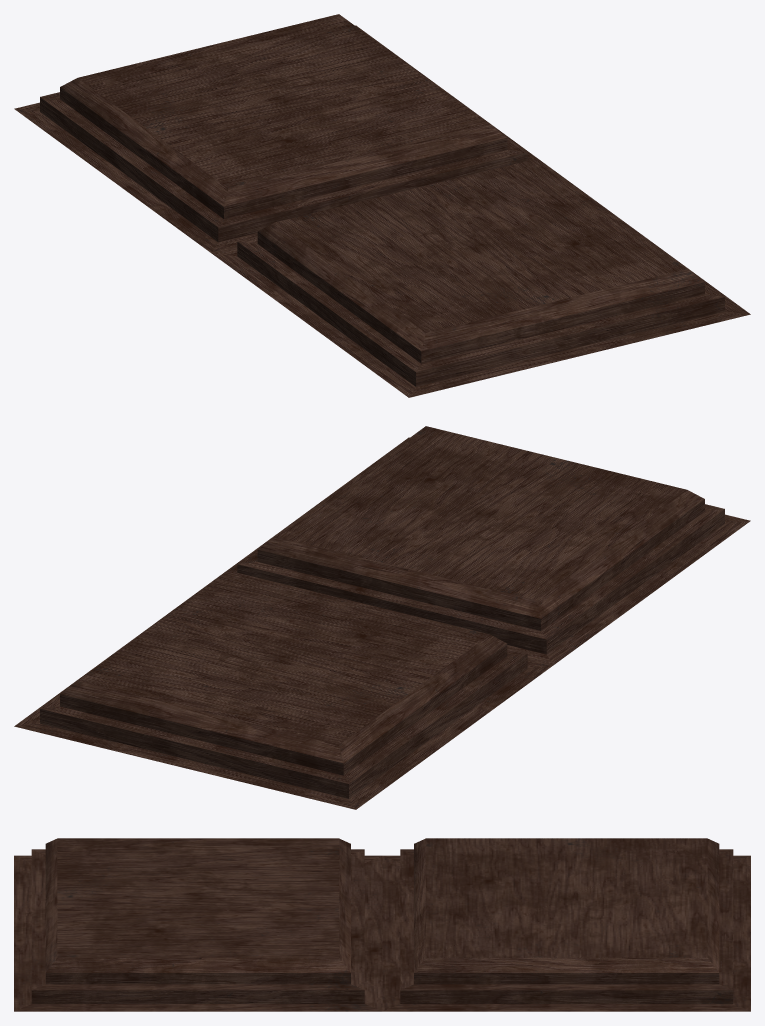
The model's file is SM_Ceiling_Half.fbx.
3 renders of one model, top to bottom at view 1: azimuth 30°, elevation 25°; view 2: azimuth 150°, elevation 25°; view 3: azimuth 270°, elevation 25°, orthographic. The views are drawn at different scales.
Parts seen in each view (by area): view 1: SM_Ceiling_Half; view 2: SM_Ceiling_Half; view 3: SM_Ceiling_Half.
Part boxes in pixels (<box>): SM_Ceiling_Half: <box>14,14,750,397</box>; SM_Ceiling_Half: <box>14,426,750,809</box>; SM_Ceiling_Half: <box>14,838,750,1011</box>.
Bounding box in the file's own units: 200 × 21.3 × 400.
